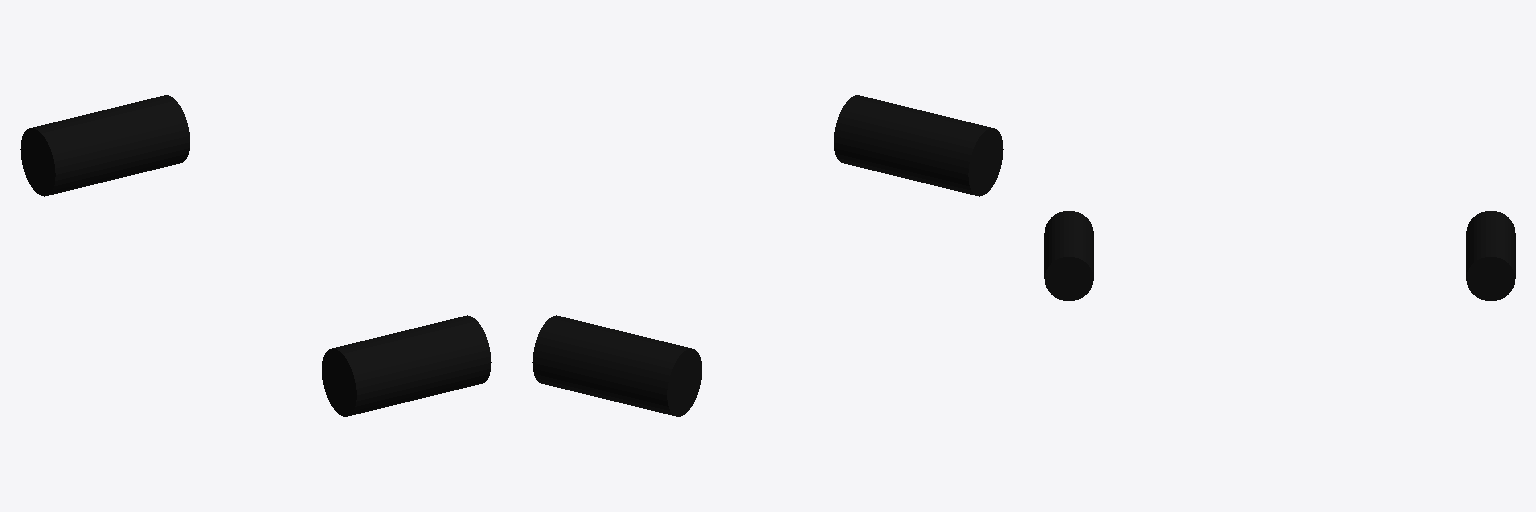
The robot description file, URDF, robot "zed_camera":
<?xml version="1.0"?>
<!--
Copyright (c) 2017, STEREOLABS.

All rights reserved.

THIS SOFTWARE IS PROVIDED BY THE COPYRIGHT [author]
"AS IS" AND ANY EXPRESS OR IMPLIED WARRANTIES, INCLUDING, BUT NOT
LIMITED TO, THE IMPLIED WARRANTIES OF MERCHANTABILITY AND FITNESS FOR
A PARTICULAR PURPOSE ARE DISCLAIMED. IN NO EVENT SHALL THE COPYRIGHT
OWNER OR CONTRIBUTORS BE LIABLE FOR ANY DIRECT, INDIRECT, INCIDENTAL,
SPECIAL, EXEMPLARY, OR CONSEQUENTIAL DAMAGES (INCLUDING, BUT NOT
LIMITED TO, PROCUREMENT OF SUBSTITUTE GOODS OR SERVICES; LOSS OF USE,
DATA, OR PROFITS; OR BUSINESS INTERRUPTION) HOWEVER CAUSED AND ON ANY
THEORY OF LIABILITY, WHETHER IN CONTRACT, STRICT LIABILITY, OR TORT
(INCLUDING NEGLIGENCE OR OTHERWISE) ARISING IN ANY WAY OUT OF THE USE
OF THIS SOFTWARE, EVEN IF ADVISED OF THE POSSIBILITY OF SUCH DAMAGE.
-->
<robot name="zed_camera">

    <link name="zed1/zed_left_camera">
        <visual>
            <origin xyz="0 0 0" rpy="0 1.57 0"/>
            <geometry>
                <cylinder radius="0.007" length=".031"/>
            </geometry>
            <material name="dark_grey">
                <color rgba="0.1 0.1 0.1 1"/>
            </material>
        </visual>
    </link>
    <link name="zed1/zed_center">
        <visual>
            <origin xyz="0 0 0" rpy="0 0 0"/>
            <geometry>
                <mesh filename="package://zed_wrapper/urdf/ZED.stl" />
            </geometry>
            <material name="light_grey">
                <color rgba="0.8 0.8 0.8 0.8"/>
            </material>
        </visual>
    </link>
    <link name="zed1/zed_right_camera">
        <visual>
            <origin xyz="0 0 0" rpy="0 1.57 0"/>
            <geometry>
                <cylinder radius="0.007" length=".031"/>
            </geometry>
            <material name="dark_grey">
                <color rgba="0.1 0.1 0.1 1"/>
            </material>
        </visual>
    </link>
    <link name="zed1/zed_depth_camera" />

    <joint name="zed1/zed_left_camera_joint" type="fixed">
        <parent link="zed1/zed_center"/>
        <child link="zed1/zed_left_camera"/>
        <origin xyz="0 0.06 0" rpy="0 0 0" />
    </joint>
    <joint name="zed1/zed_depth_camera_joint" type="fixed">
        <parent link="zed1/zed_left_camera"/>
        <child link="zed1/zed_depth_camera"/>
        <origin xyz="0 0 0" rpy="-1.5707963267948966 0 -1.5707963267948966" />
    </joint>

    <joint name="zed1/zed_right_camera_joint" type="fixed">
        <parent link="zed1/zed_center"/>
        <child link="zed1/zed_right_camera"/>
        <origin xyz="0 -0.06 0" rpy="0 0 0" />
    </joint>

</robot>

--- Facts derived from the render (not from the file) ---
3 views of the same robot in one strip: view 1: azimuth 30°, elevation 25°; view 2: azimuth 150°, elevation 25°; view 3: azimuth 270°, elevation 25° (orthographic).
Robot: zed_camera — 4 links, 3 joints (3 fixed); root link zed1/zed_center; default pose: every joint at zero.
Visible links, largest first — view 1: zed1/zed_left_camera, zed1/zed_right_camera; view 2: zed1/zed_left_camera, zed1/zed_right_camera; view 3: zed1/zed_left_camera, zed1/zed_right_camera.
Link boxes in pixels (x1,y1,x2,y2): zed1/zed_left_camera: (20, 95, 189, 196); zed1/zed_right_camera: (322, 315, 491, 416); zed1/zed_left_camera: (532, 315, 701, 416); zed1/zed_right_camera: (834, 95, 1003, 196); zed1/zed_left_camera: (1466, 211, 1515, 300); zed1/zed_right_camera: (1044, 211, 1093, 300).
Size in the robot's own frame: 0.031 by 0.134 by 0.014 metres.
0 mesh visuals loaded from 1 distinct referenced files (none loaded); not drawn: 1 (reference not matched to a file when rendering).